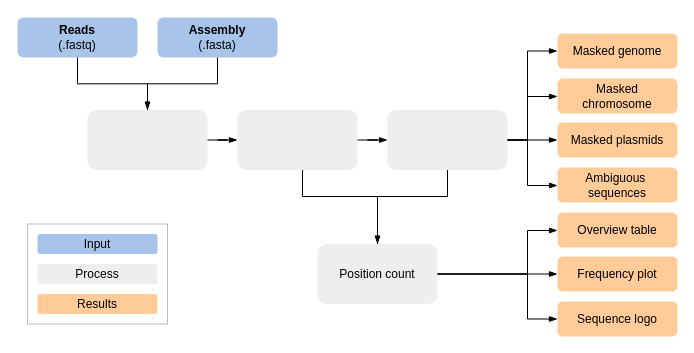
Image size: 694x353. Some labels were removed from this diagram. Here are the shapes that lost their labels. From the top down, the centre of each, then its label:
[147,140]: Mapping reads against assembly
[297,140]: Masking ambiguous positions
[447,140]: Depth masking
